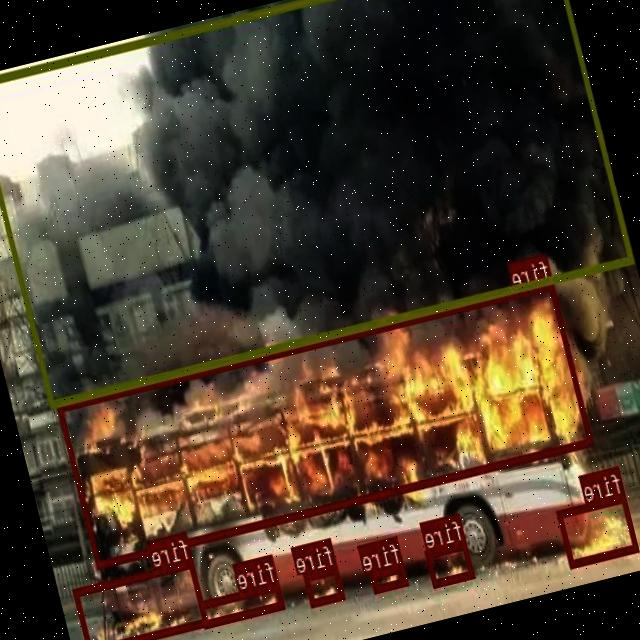fire: (56, 278, 594, 568), (72, 557, 209, 640), (557, 492, 640, 566), (200, 580, 286, 626), (426, 538, 476, 585), (303, 564, 345, 604), (370, 561, 410, 592)
smoke: (0, 0, 635, 407)
